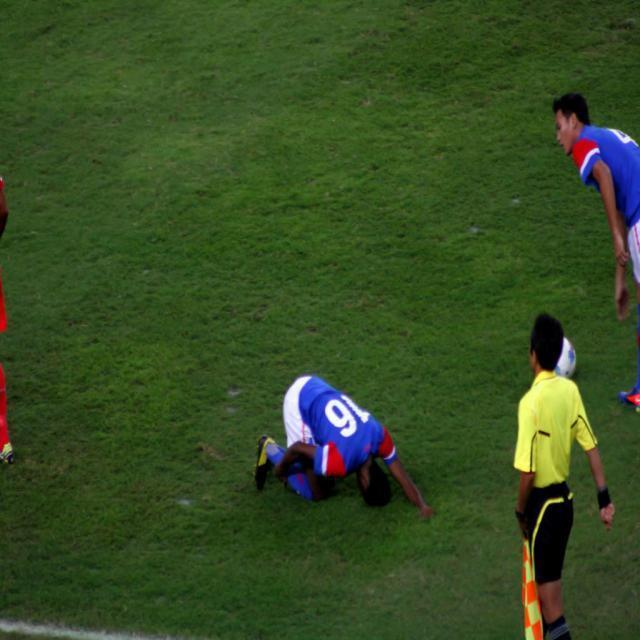ball: (556, 332, 577, 378)
